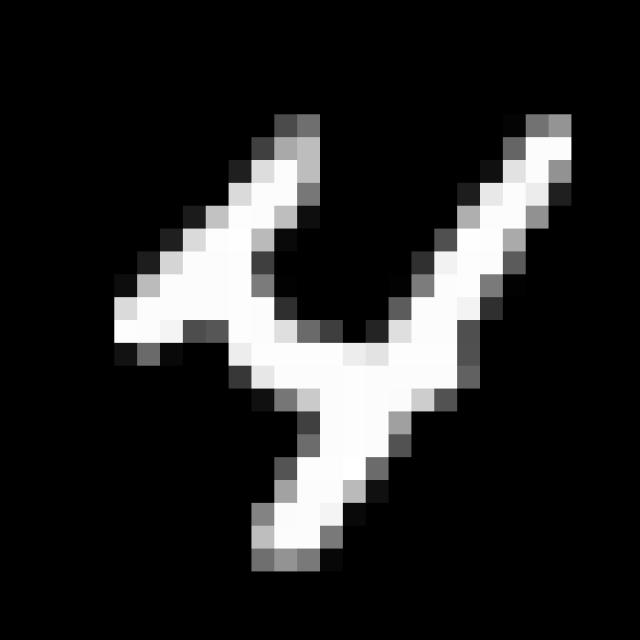four -4-: (87, 89, 590, 584)
